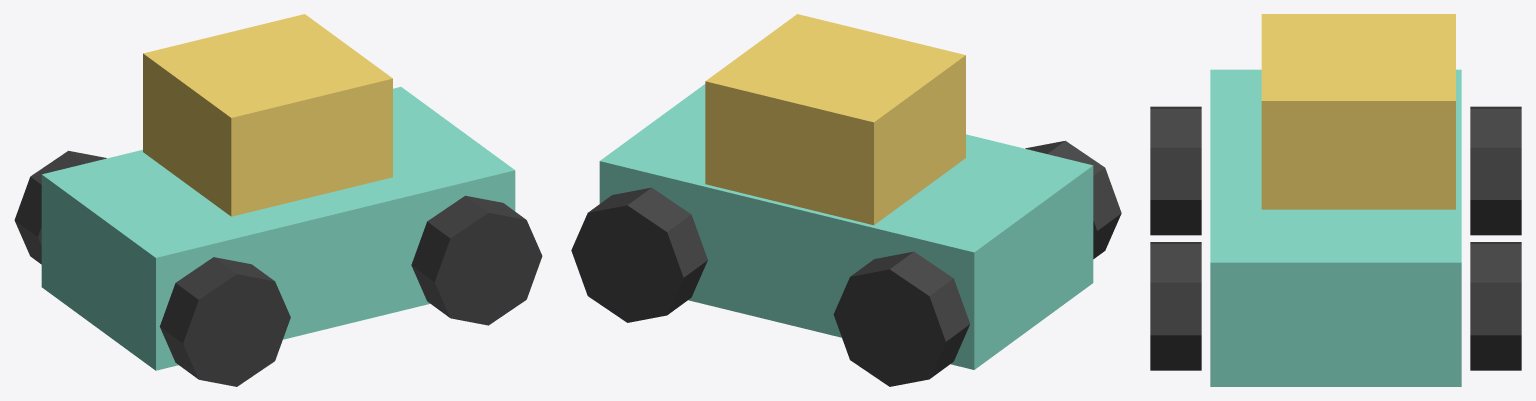
The picture shows the model from 3 angles, left to right: view 1: azimuth 30°, elevation 25°; view 2: azimuth 150°, elevation 25°; view 3: azimuth 270°, elevation 25°; orthographic projection. The views are drawn at different scales.
Visible parts, largest first — view 1: Chassis, Body module, Wheel, Wheel.002, Wheel.001; view 2: Chassis, Body module, Wheel.003, Wheel.001, Wheel; view 3: Chassis, Body module, Wheel, Wheel.001, Wheel.002, Wheel.003.
Boxes of the visible parts, left/top/right/bottom form: Chassis: left=41, top=87, right=515, bottom=370; Body module: left=143, top=14, right=392, bottom=216; Wheel: left=159, top=257, right=290, bottom=386; Wheel.002: left=411, top=195, right=542, bottom=325; Wheel.001: left=14, top=150, right=106, bottom=264; Chassis: left=599, top=84, right=1093, bottom=369; Body module: left=705, top=14, right=965, bottom=225; Wheel.003: left=571, top=187, right=707, bottom=322; Wheel.001: left=833, top=251, right=969, bottom=386; Wheel: left=1025, top=140, right=1121, bottom=259; Chassis: left=1210, top=69, right=1461, bottom=386; Body module: left=1261, top=14, right=1455, bottom=209; Wheel: left=1150, top=106, right=1201, bottom=235; Wheel.001: left=1470, top=106, right=1521, bottom=235; Wheel.002: left=1150, top=242, right=1201, bottom=370; Wheel.003: left=1470, top=242, right=1521, bottom=370.
Size of the model in its own units: 40 by 23.5 by 32.5.
